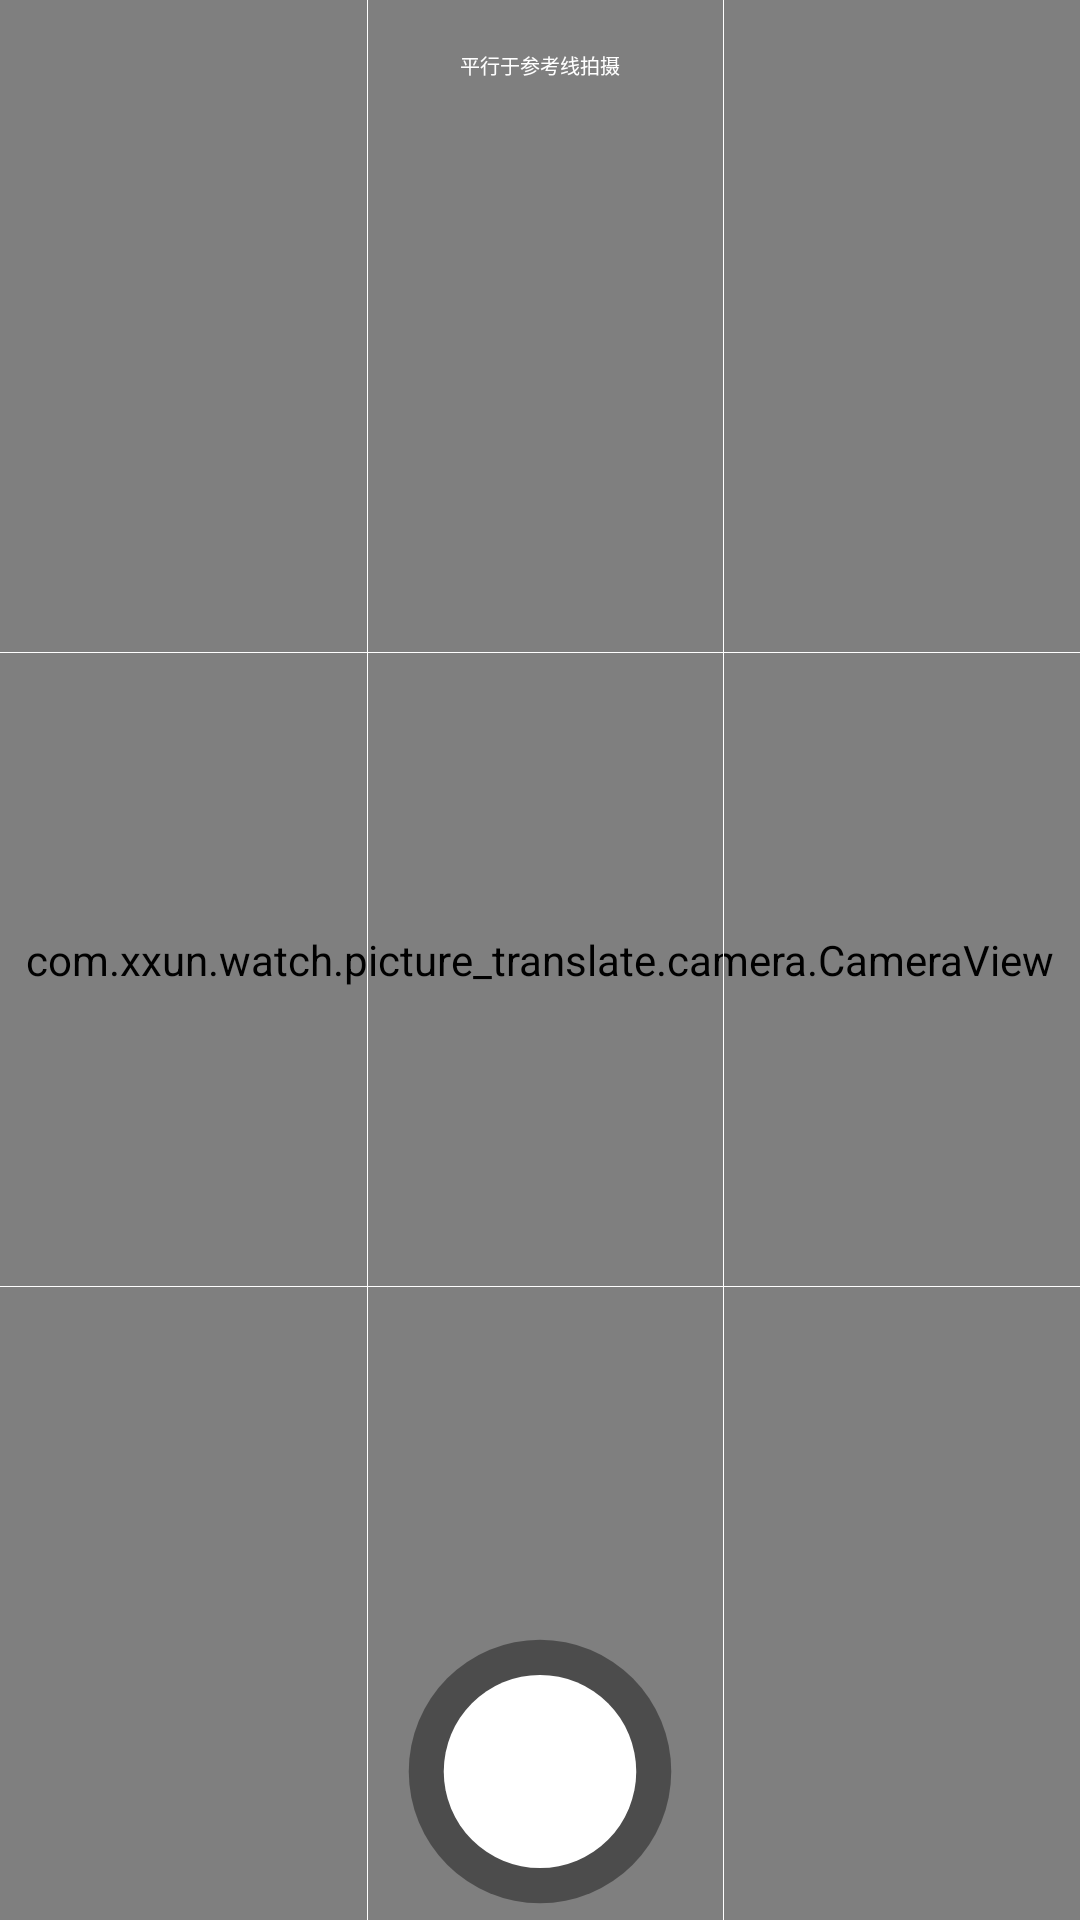

Icon click points for this 1080px×1920px phone screenshot, format (x=x, y=y):
take photo: (x=540, y=1771)
